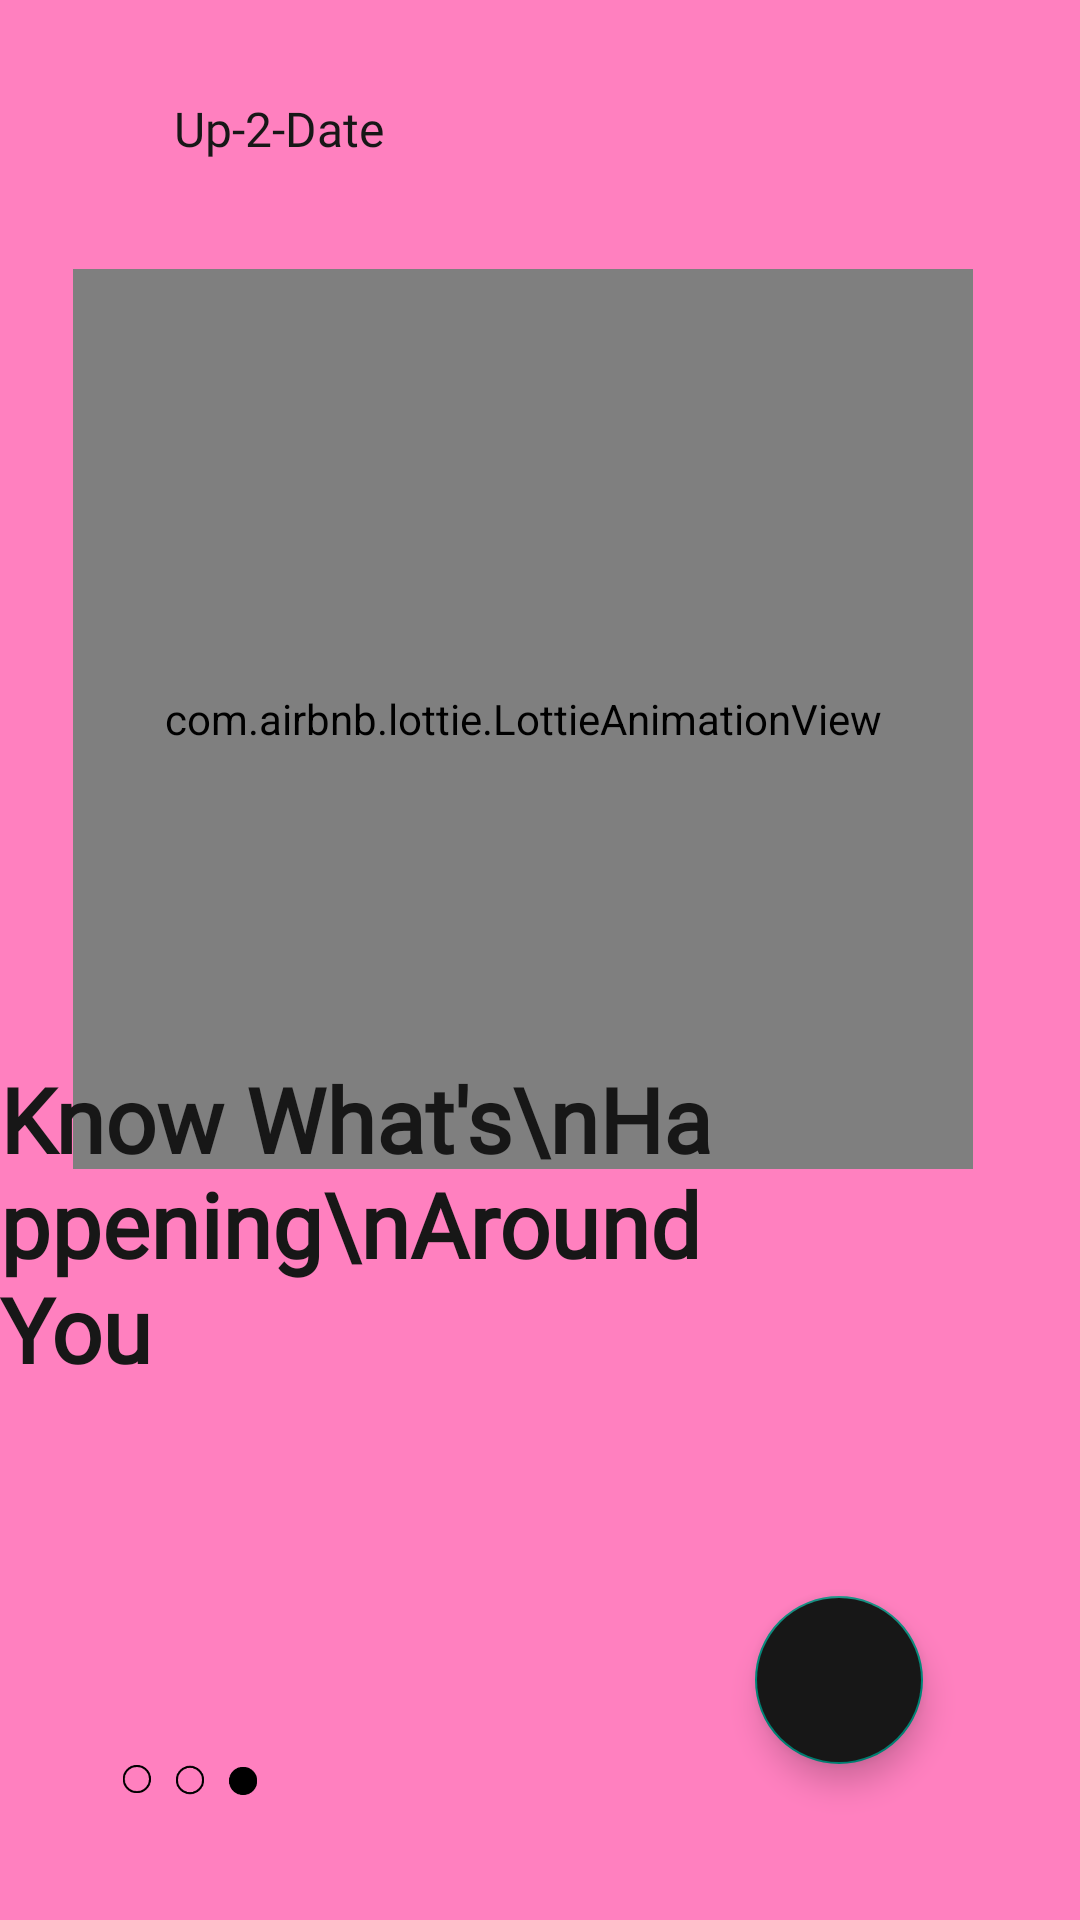

Icons on this 1080*1920 Android screen, each with its box as (x1, y1, x2, y2):
Displays 3rd page: (123, 1765, 257, 1795)
